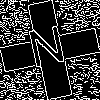N: (25, 25, 70, 77)
